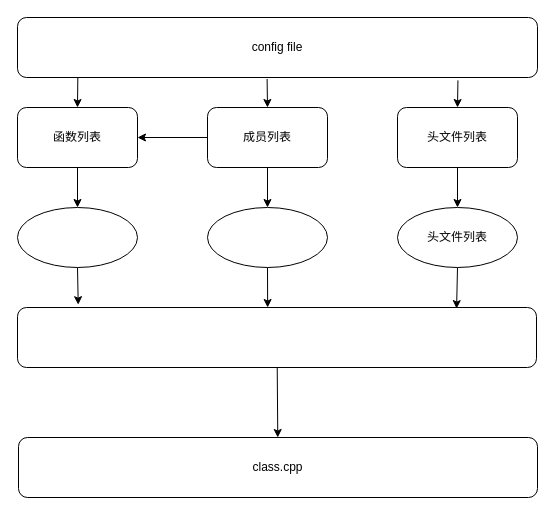
Image size: 555x515. Some labels were removed from this diagram. The centre of each missing label's shape, as x and y in pixels:
"class.h" goes at (276,337).
"函数生成器" goes at (77,237).
"成员生成器" goes at (267,237).
